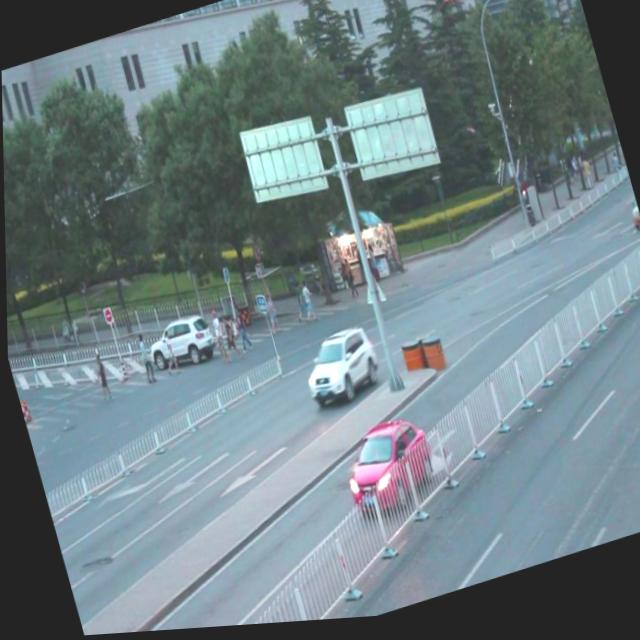car: (334, 415, 438, 520), (297, 325, 379, 408), (141, 307, 218, 378), (621, 195, 640, 249)
